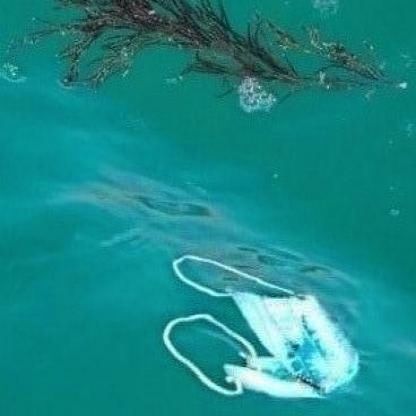Mask: (164, 252, 363, 404)
